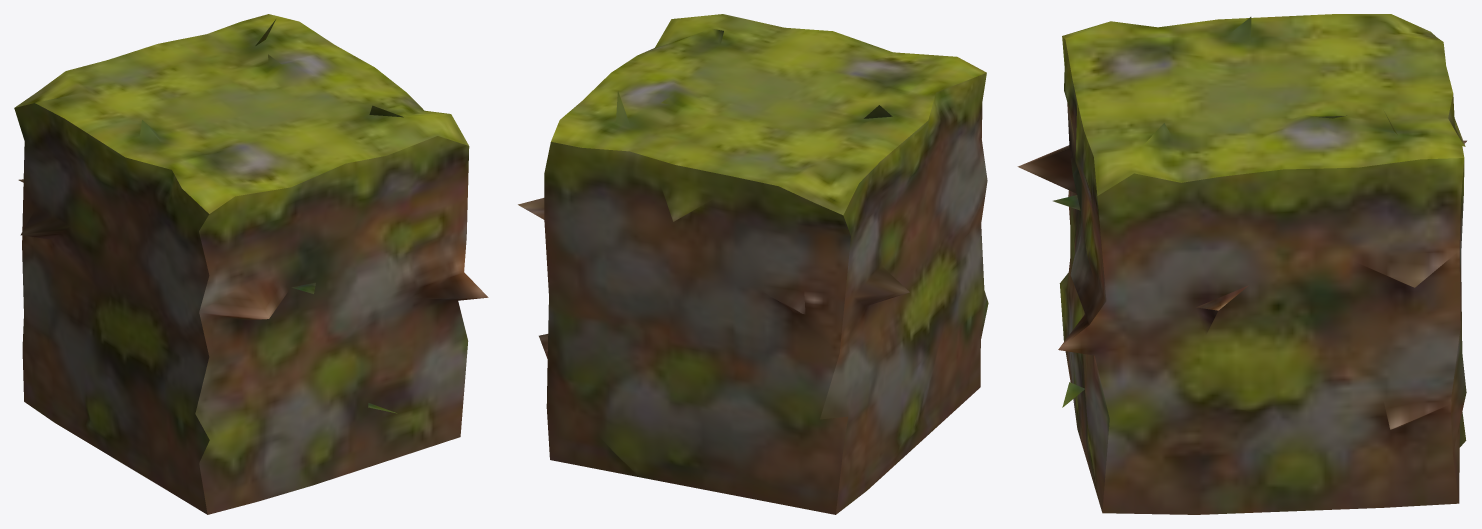
The model's file is b_racines_mur_3.glb.
3 views of the same model, side by side, from view 1: azimuth 30°, elevation 25°; view 2: azimuth 150°, elevation 25°; view 3: azimuth 270°, elevation 25° (orthographic). The views are drawn at different scales.
Visible parts, largest first — view 1: geometry_0; view 2: geometry_0; view 3: geometry_0.
Boxes of the visible parts, x1,y1,x2,y2 form: geometry_0: (14,14,488,514); geometry_0: (518,14,988,514); geometry_0: (1017,14,1466,514).
Size of the model in its own units: 1 by 0.9249 by 1.
Materials: 1 (1 with a texture image).
